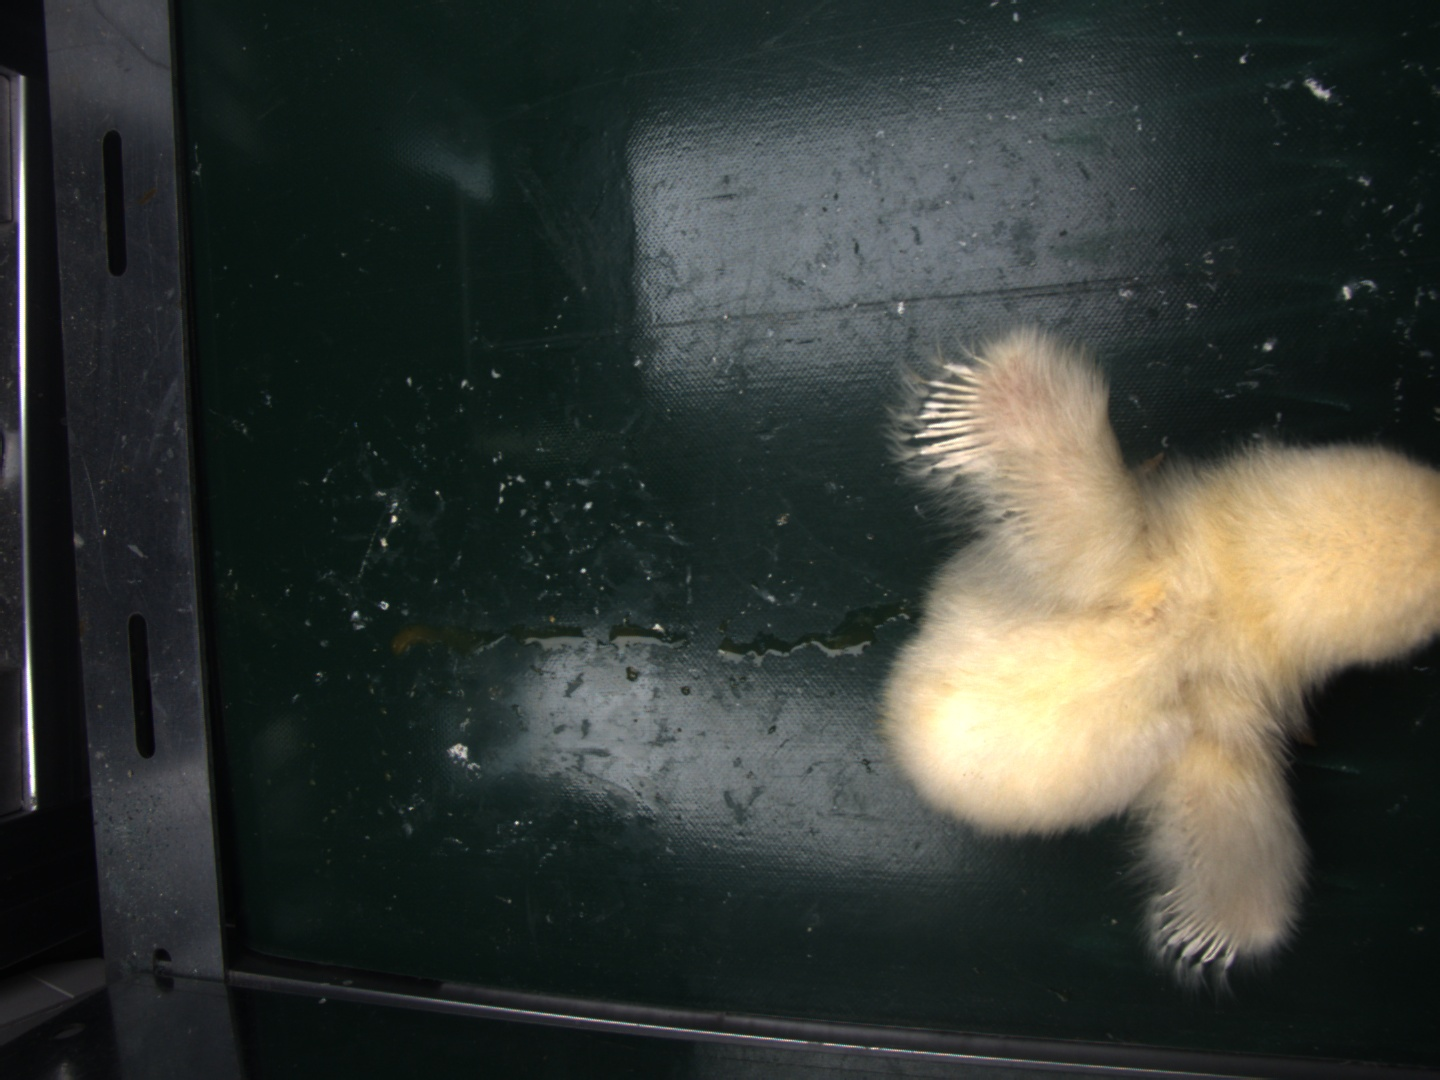male: (913, 360, 992, 479), (1157, 891, 1236, 971)
